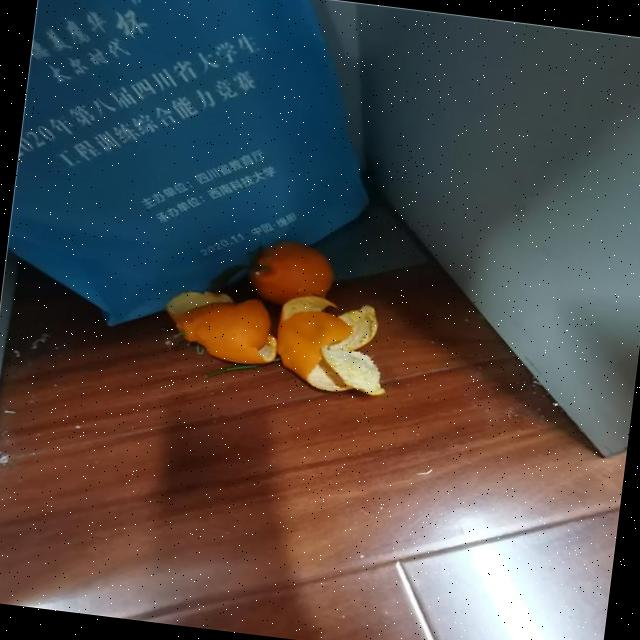orange-peel: (167, 287, 282, 368), (245, 235, 336, 309)
